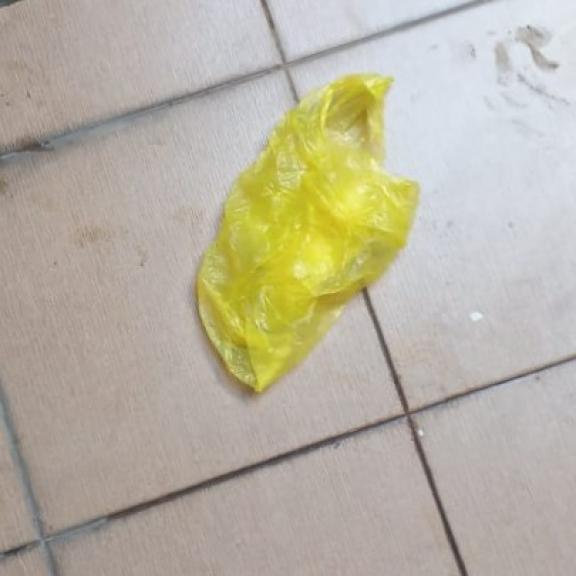Plastik: (197, 72, 420, 394)
